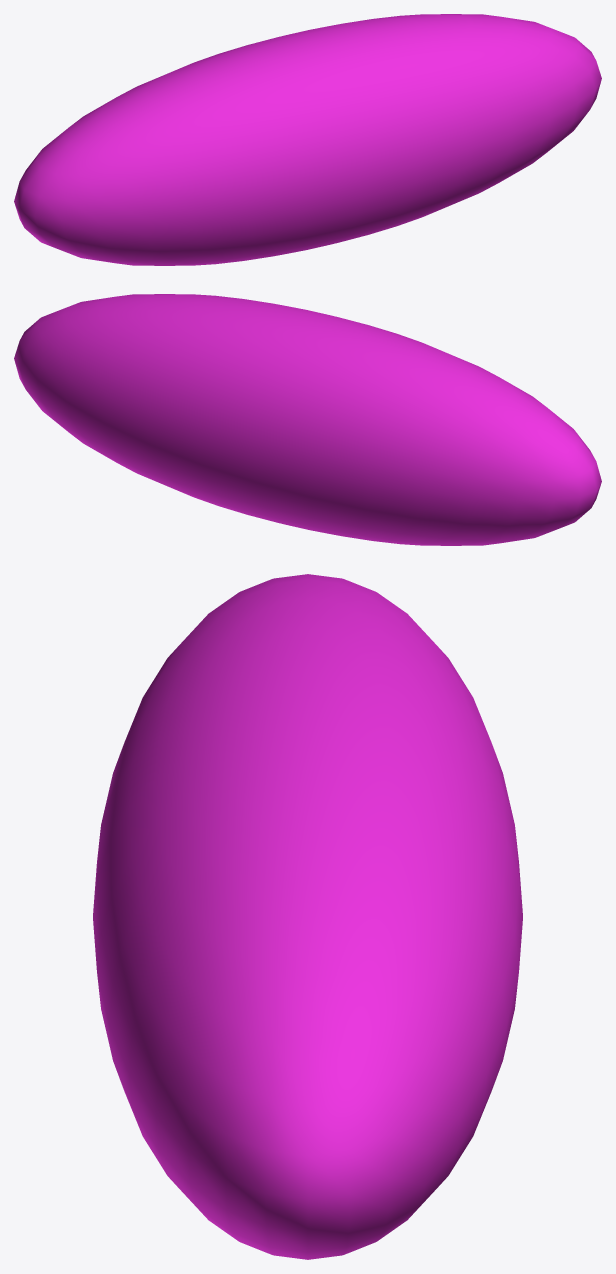
The picture shows the model from 3 angles, top to bottom: view 1: azimuth 30°, elevation 25°; view 2: azimuth 150°, elevation 25°; view 3: azimuth 270°, elevation 25°; orthographic projection. The views are drawn at different scales.
Parts seen in each view (by area): view 1: Sphere; view 2: Sphere; view 3: Sphere.
Part boxes in pixels (x1,y1,x2,y2): Sphere: (14,14,601,265); Sphere: (14,294,601,545); Sphere: (93,574,522,1259).
Size of the model in its own units: 6.21 by 2 by 2.
